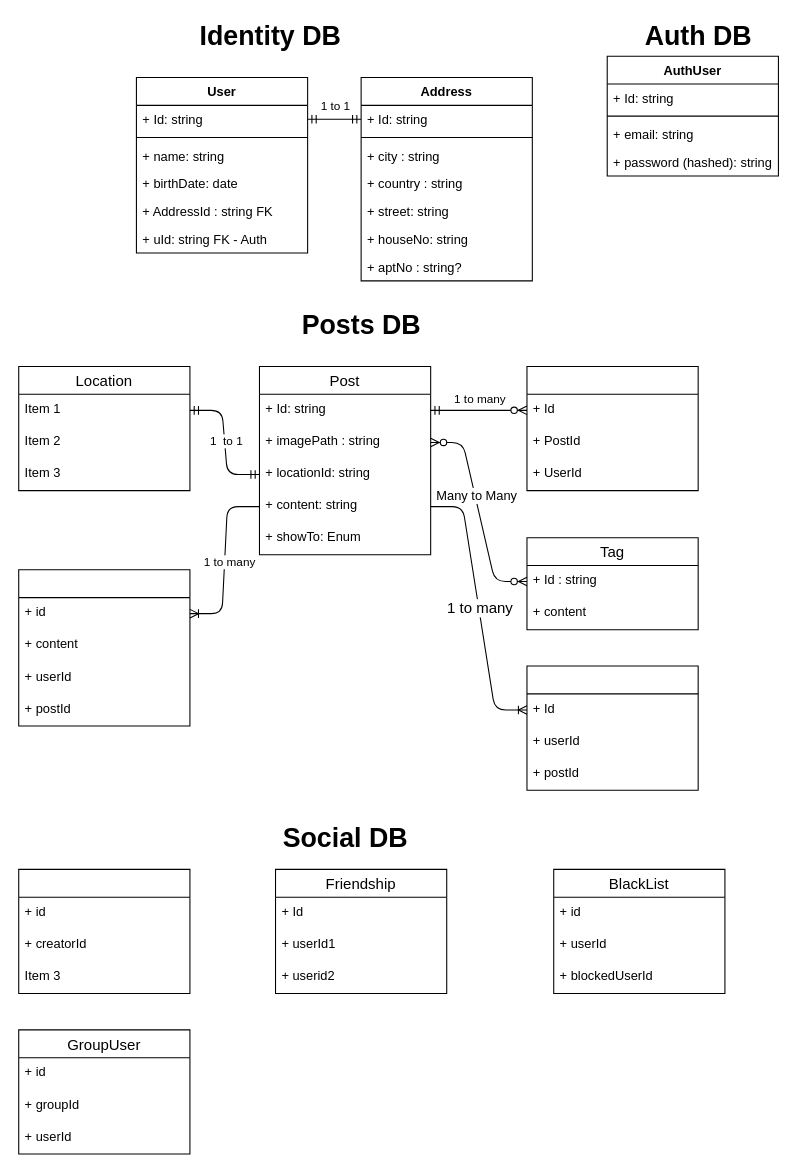
Some shapes in this 797 by 1175 pixel diagram are drawn without their labels. The shapes that lost their labels are listed below. From the top down, each one's box as (x1, y1, x2, y2) in pixels, then its label:
(526, 365, 698, 491): Like
(18, 569, 190, 726): Comment
(526, 665, 698, 790): UserTag
(18, 868, 190, 993): Group
